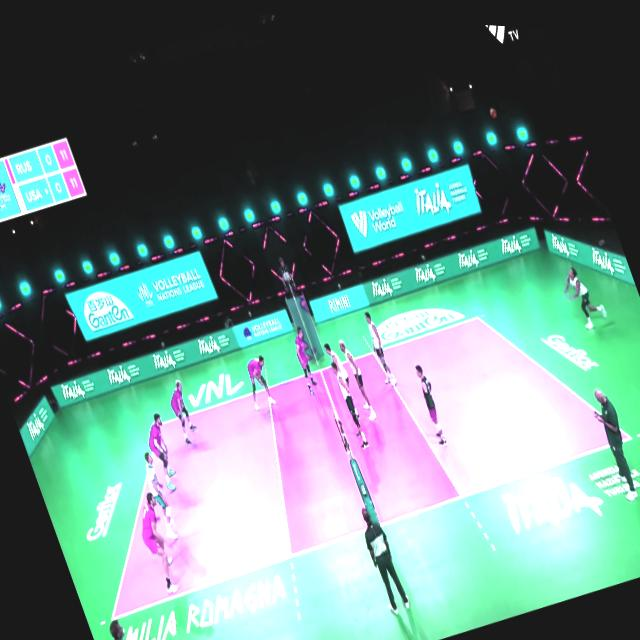player: (130, 486, 184, 589), (134, 407, 188, 495), (334, 329, 381, 427), (137, 445, 180, 536), (410, 357, 454, 445), (330, 355, 371, 448), (557, 254, 609, 326), (360, 304, 399, 387), (161, 374, 200, 439), (287, 321, 323, 389), (242, 348, 280, 407), (322, 336, 352, 390)
